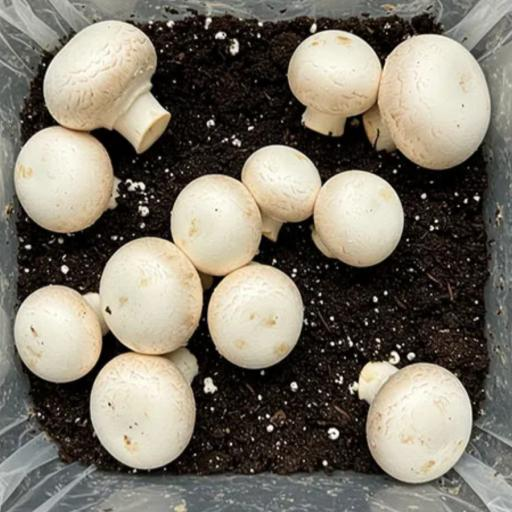Button Mushroom: (349, 19, 512, 191), (31, 6, 196, 162), (0, 107, 134, 250), (264, 11, 401, 149), (187, 249, 321, 385), (355, 353, 477, 485), (84, 341, 199, 471), (159, 169, 267, 283), (101, 240, 201, 358), (303, 163, 409, 274), (7, 281, 113, 389), (230, 132, 335, 241)
